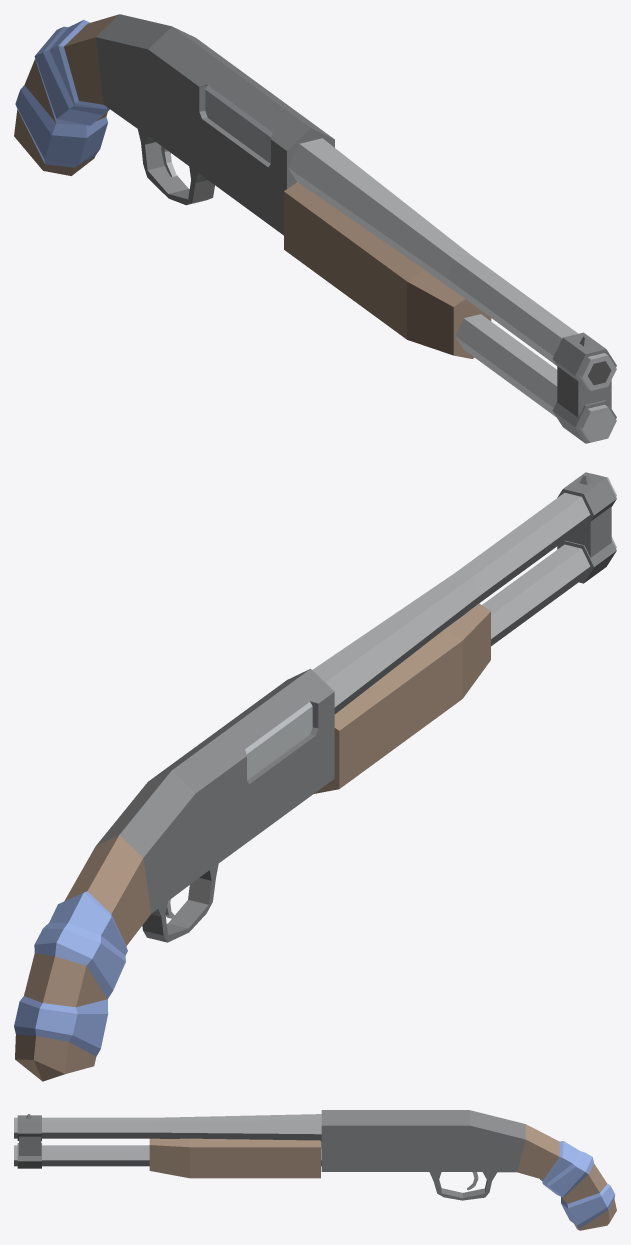
The model's file is Shotgun.fbx.
The picture shows the model from 3 angles, top to bottom: view 1: azimuth 30°, elevation 25°; view 2: azimuth 150°, elevation 25°; view 3: azimuth 270°, elevation 25°; orthographic projection. The views are drawn at different scales.
Visible parts, largest first — view 1: SM_Wep_Shotgun_01_2; view 2: SM_Wep_Shotgun_01_2; view 3: SM_Wep_Shotgun_01_2.
Boxes of the visible parts, x1,y1,x2,y2 form: SM_Wep_Shotgun_01_2: [14, 14, 616, 443]; SM_Wep_Shotgun_01_2: [14, 472, 616, 1081]; SM_Wep_Shotgun_01_2: [14, 1110, 616, 1230].
Size of the model in its own units: 3.37 by 12.41 by 56.95.
